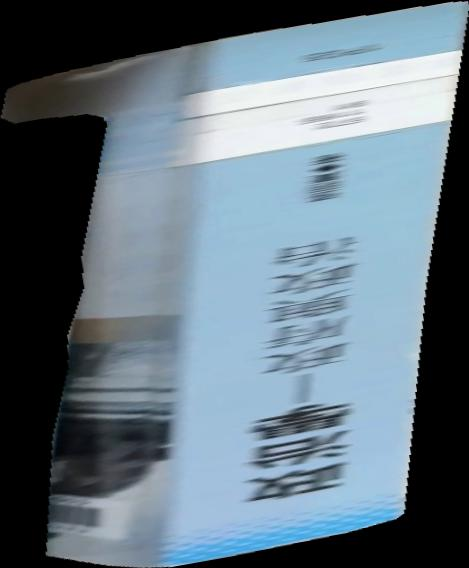reverse: (1, 1, 469, 568)
